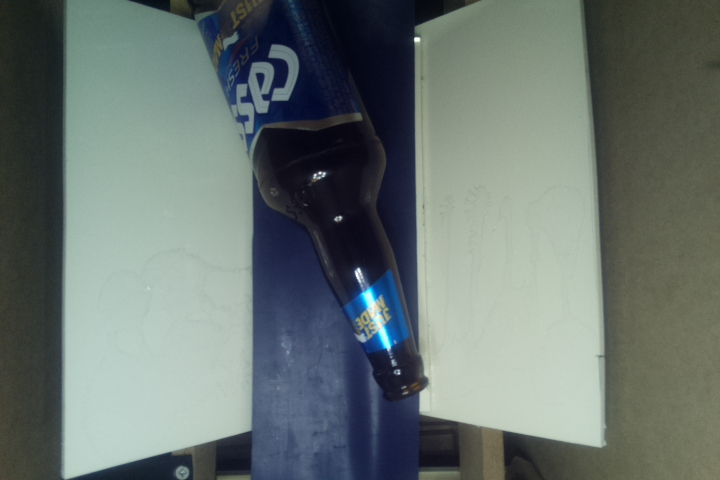makju: (194, 1, 435, 397)
